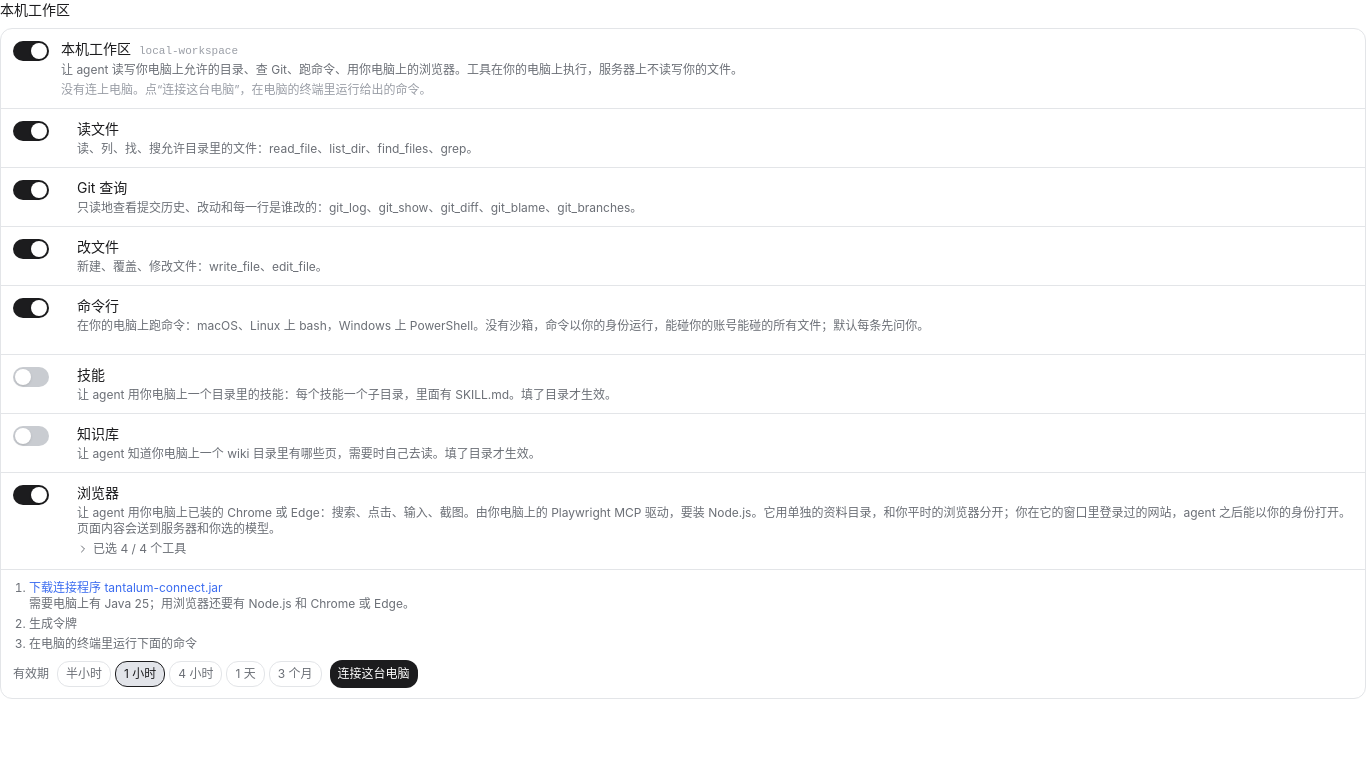
Test case: LocalWorkspaceCard › the browser's tools › unticking a tool saves it, counts it, and offers to restore the default
The image size is (1366, 768).
Click the button "已选 4 / 4 个工具". click: x=132, y=549
box: left=77, top=541, right=186, bottom=557
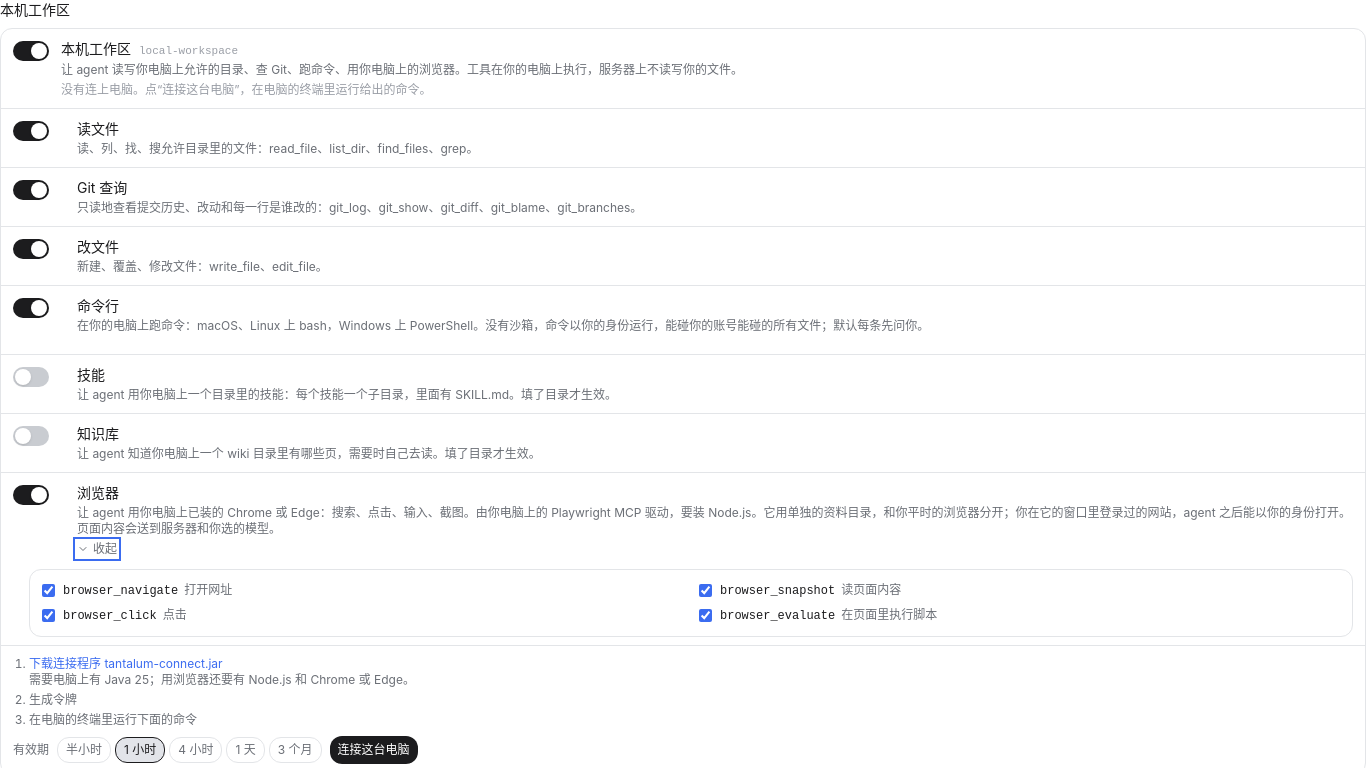
Click the checkbox labelled "browser_evaluate". click: x=706, y=615
box: left=699, top=609, right=712, bottom=622
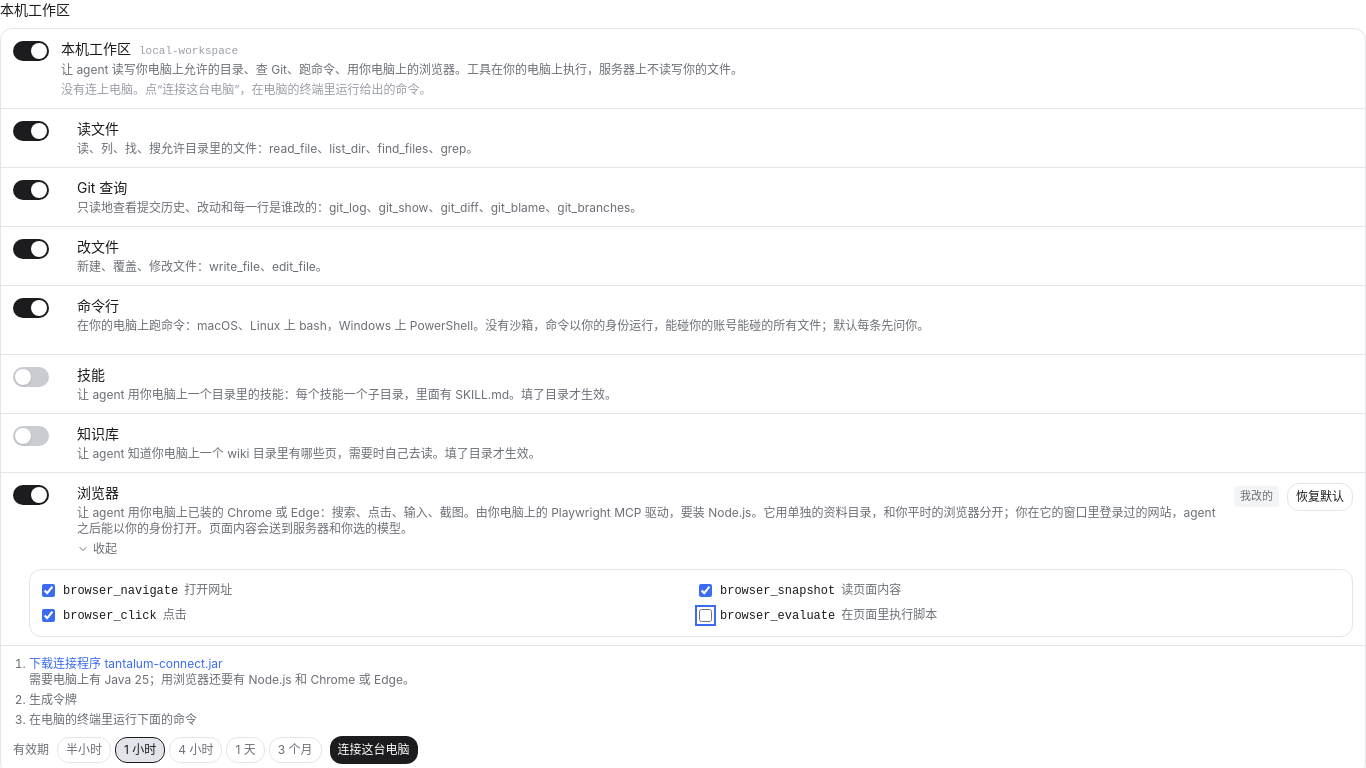
Expected: the checkbox labelled "browser_evaluate" is not checked, left=699, top=609, right=712, bottom=622
Expected: the text "我改的" is shown, left=1234, top=486, right=1279, bottom=507
Click the button with aria-label "浏览器 恢复默认". click: x=1320, y=497
box: left=1287, top=483, right=1353, bottom=511
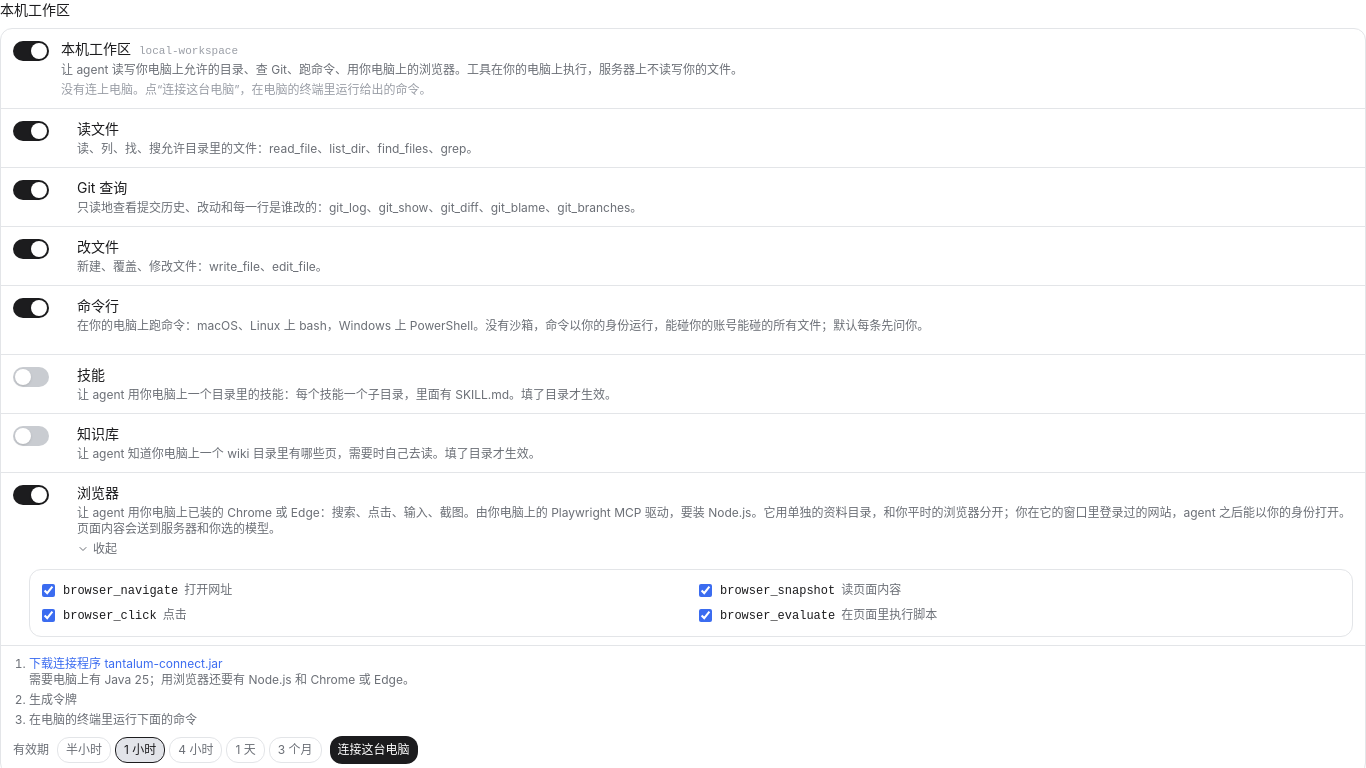
Expected: the checkbox labelled "browser_evaluate" is checked, left=699, top=609, right=712, bottom=622
Expected: the text "我改的" is gone
